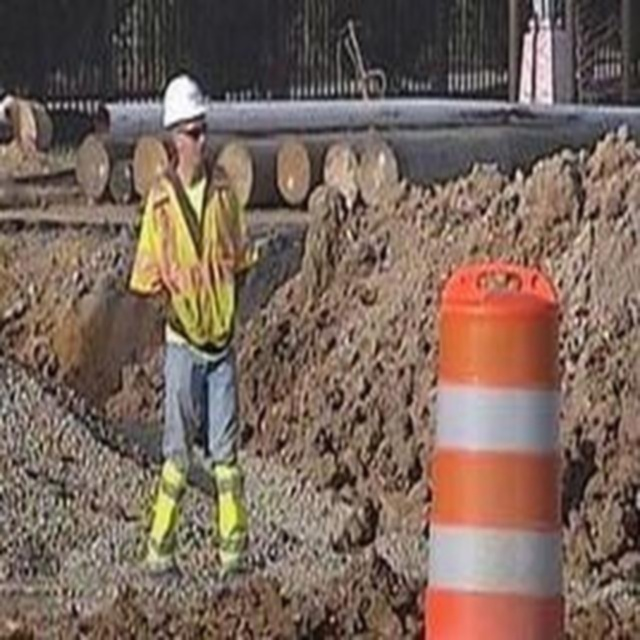Con_Casco: (162, 74, 210, 160)
Con_Chaleco: (154, 174, 243, 343)
